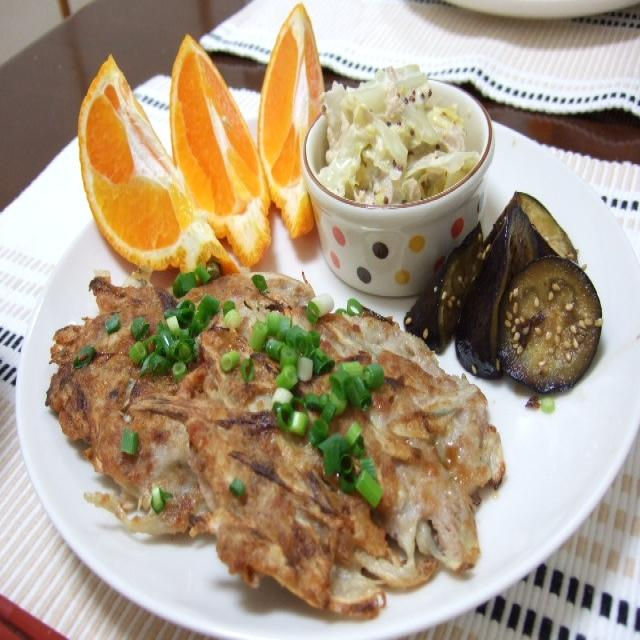鸡蛋料理: (404, 166, 620, 406)
